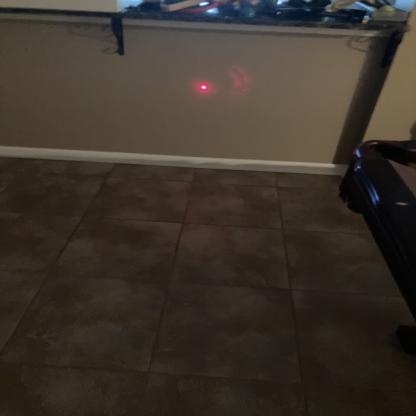target: (197, 78, 211, 94)
